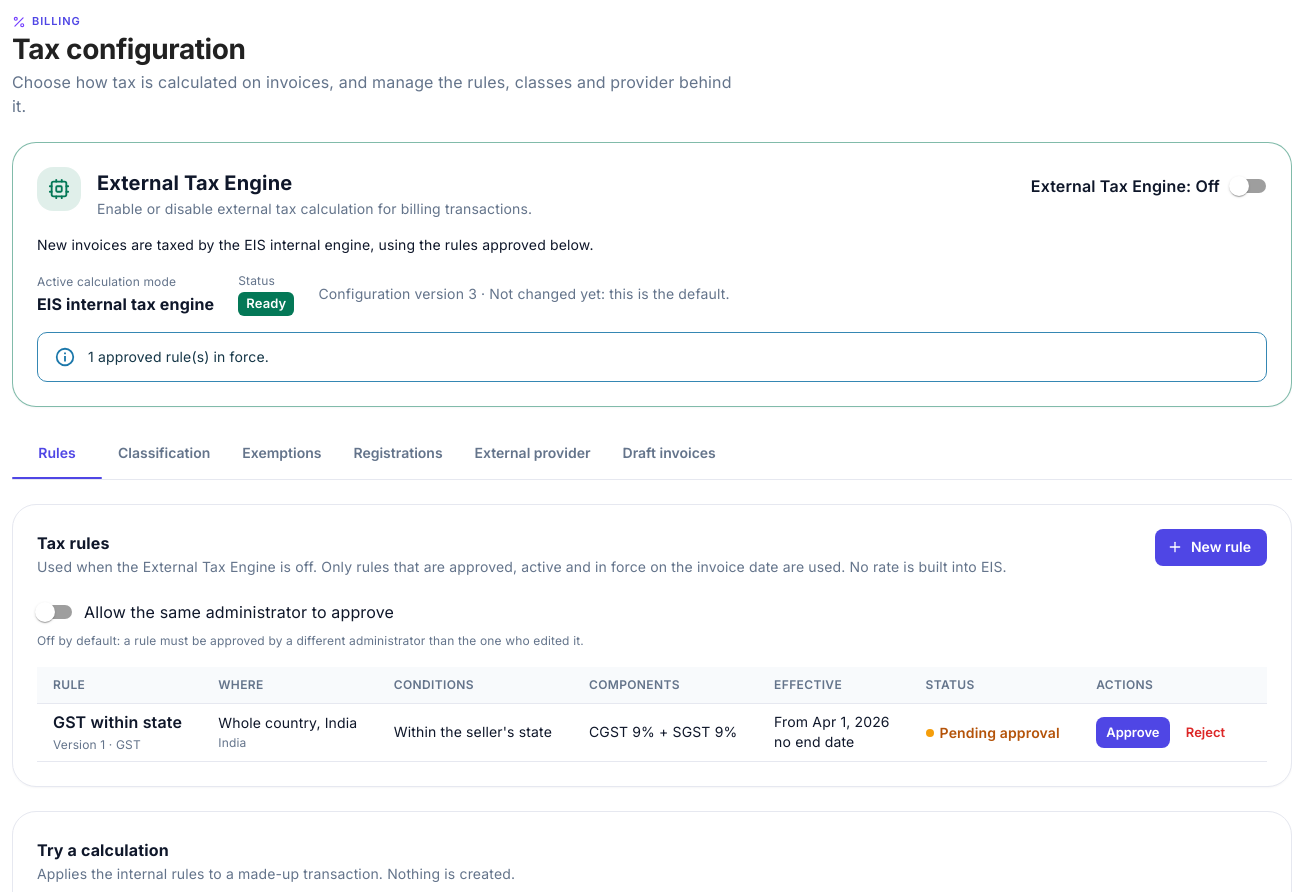
Test: AdminTaxConfigurationPage › approves, submits and deactivates through the API and refreshes the status
What coordinates should you click on to do the following:
click the button "Approve"
I would click on:
 (1133, 732)
Its box is [1096,717,1170,748].
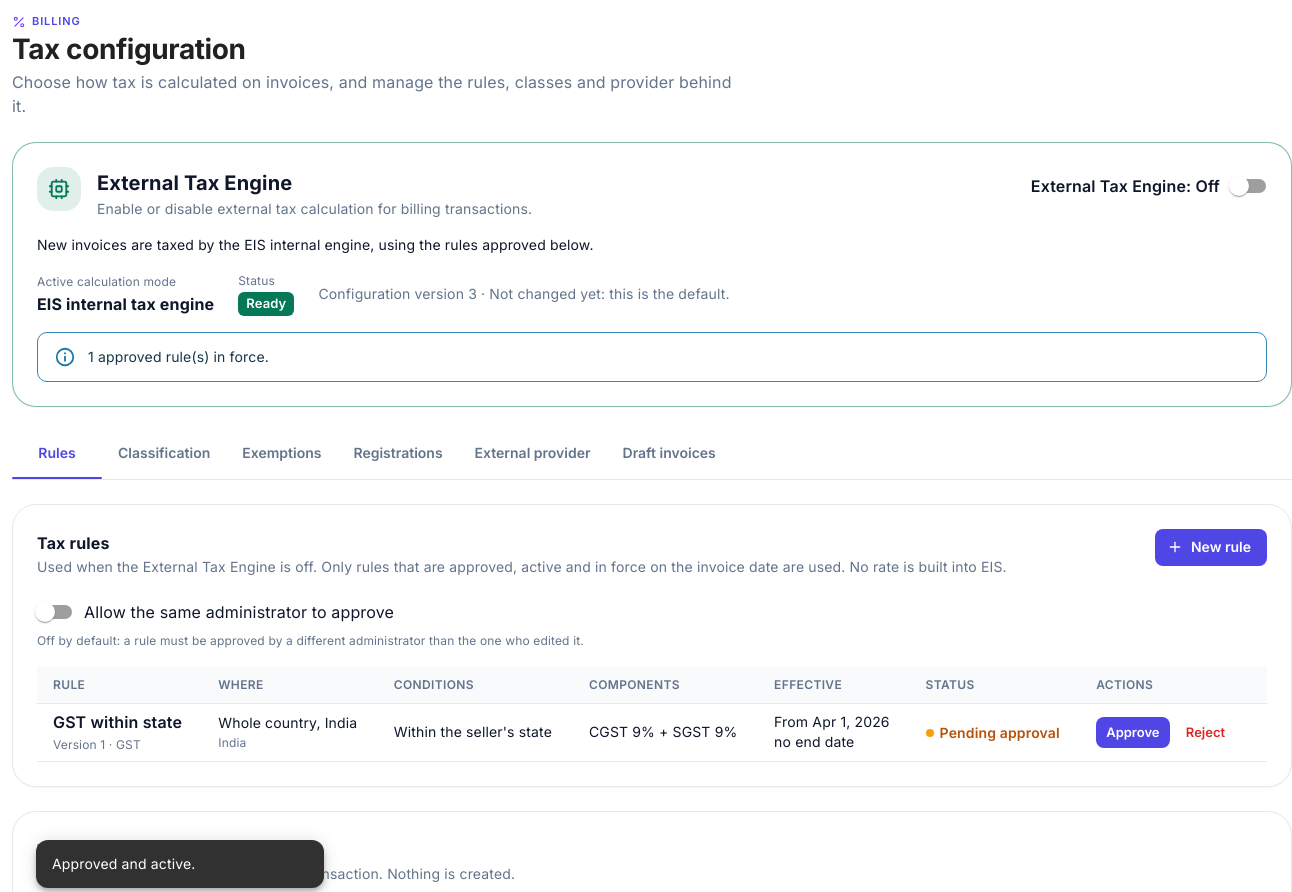
Check: the text "Approved and active." is shown, box [52,855,196,872]
